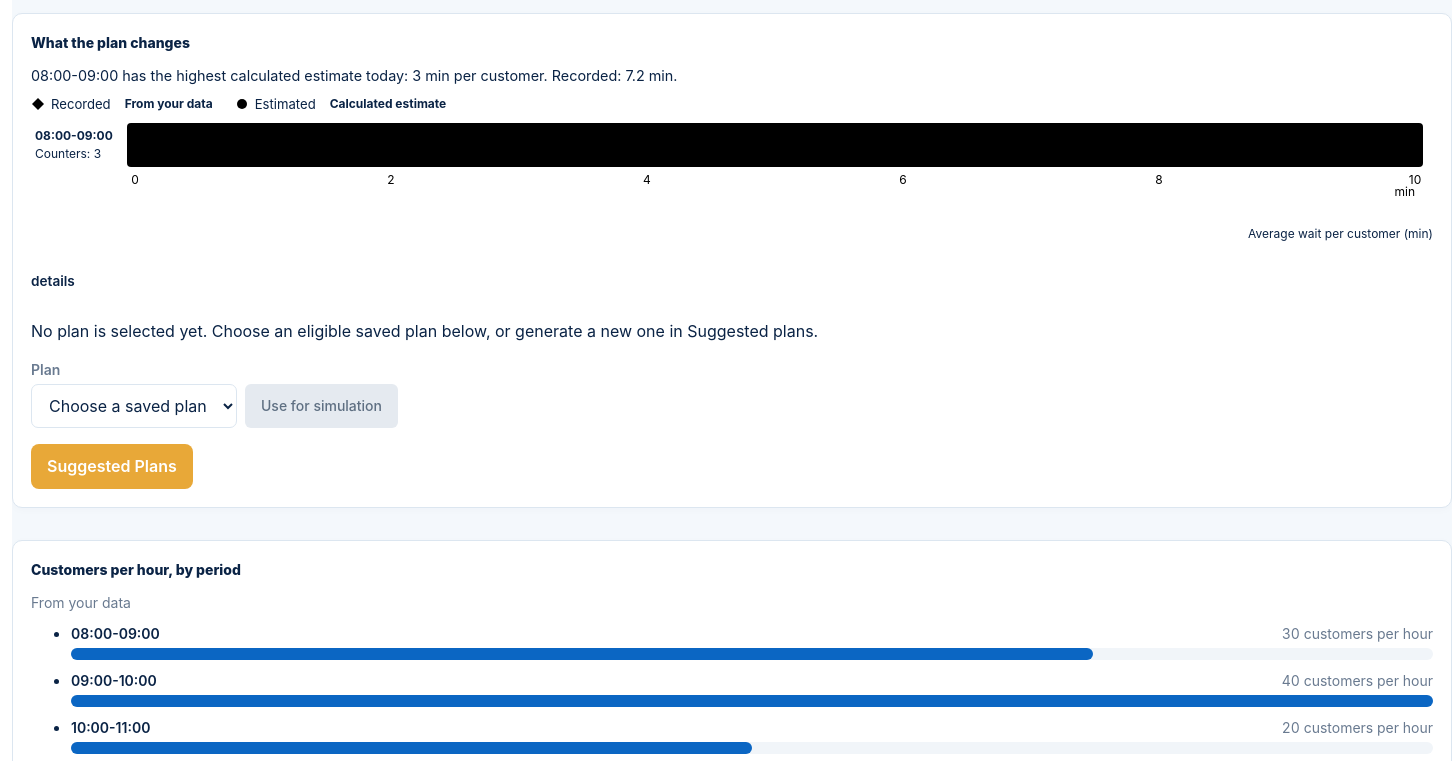
Test case: Analysis results: the planning file › selects an eligible saved plan before any selection exists, without saving or generating another plan
This screenshot has width=1452, height=761.
(page scrolled)
Expected: the button "Use for simulation" is disabled, [245, 384, 398, 428]
Select "Saved plan" in the dropdown labelled "Plan" at (134, 406), box [31, 384, 237, 428]
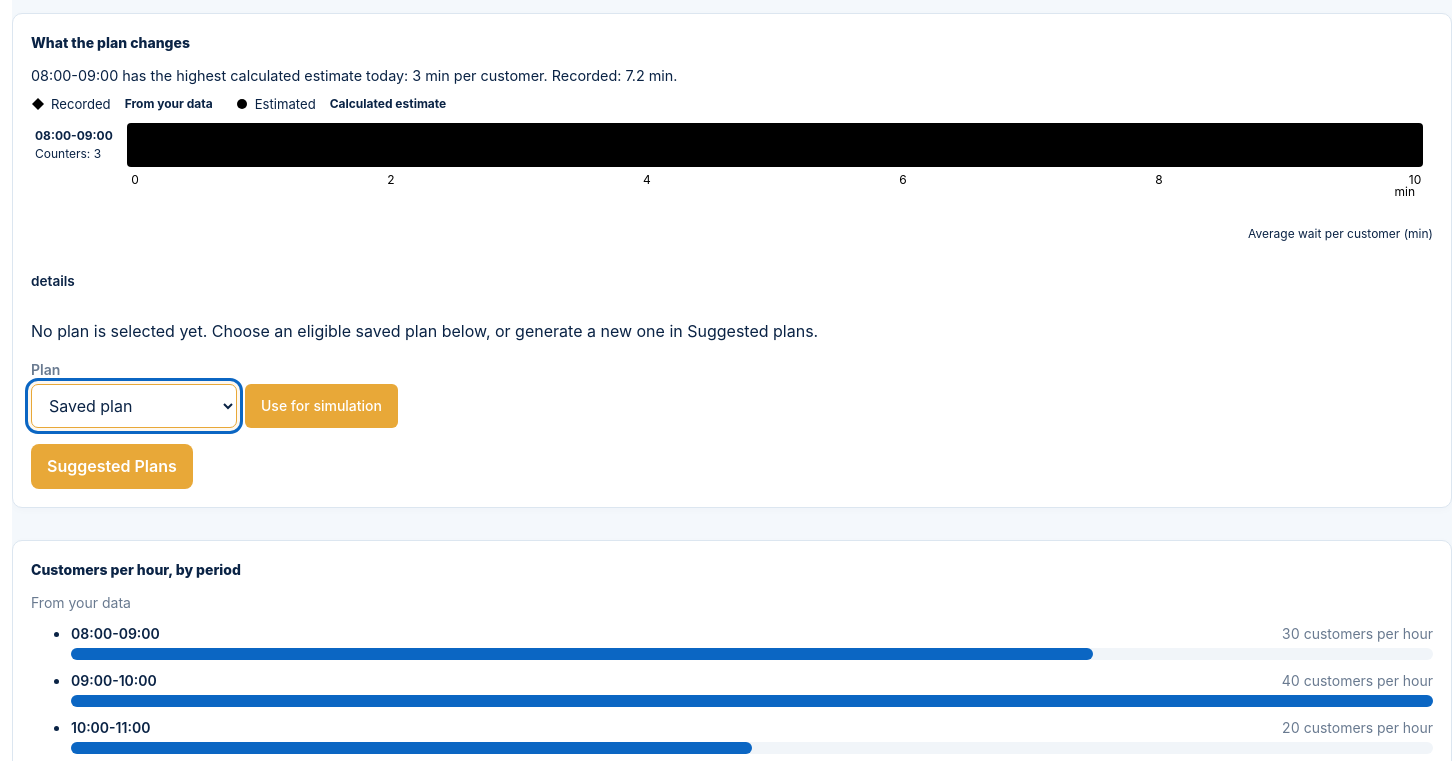
Click the button "Use for simulation" at (322, 406), box [245, 384, 398, 428]
(page scrolled)
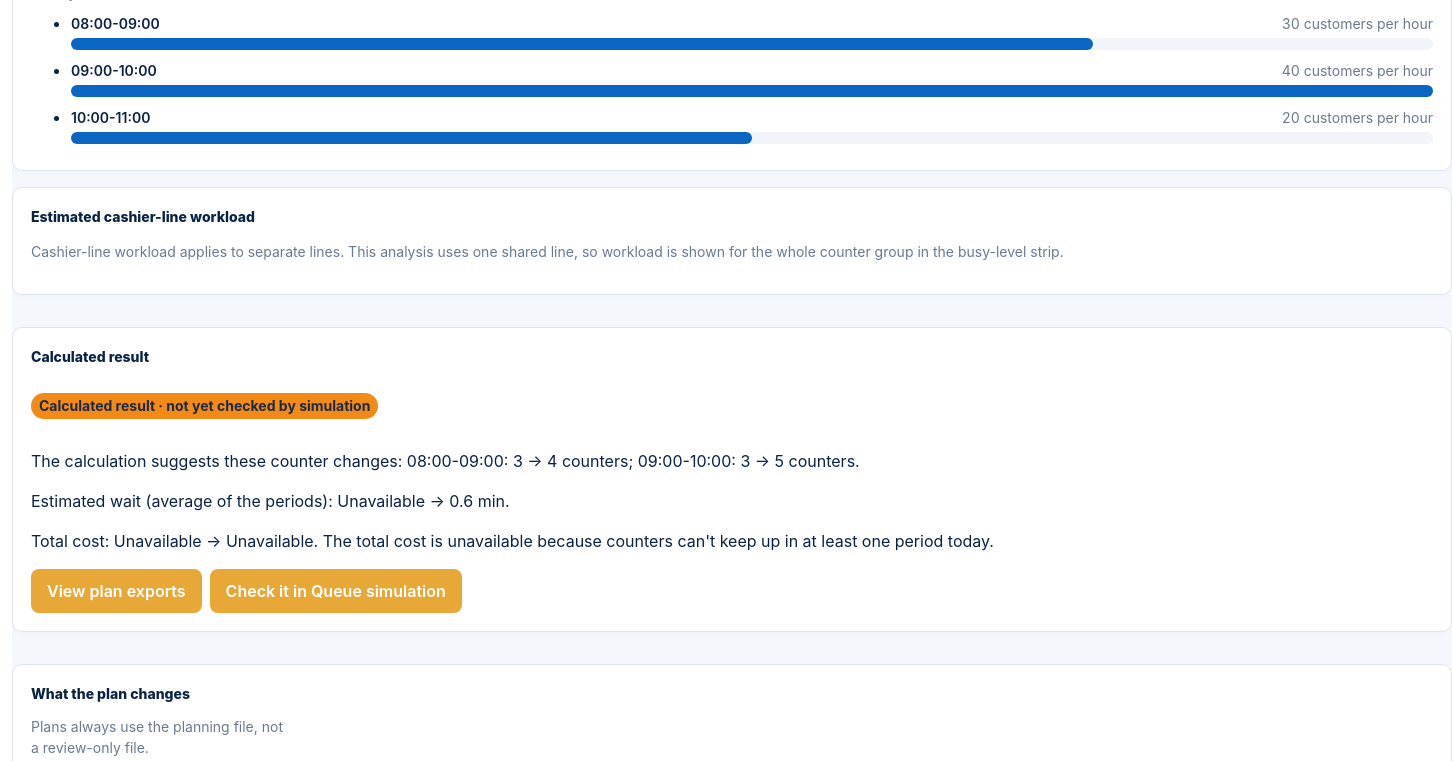
Now the text "Calculated result · not yet checked by simulation" is shown, box [31, 393, 378, 419]
